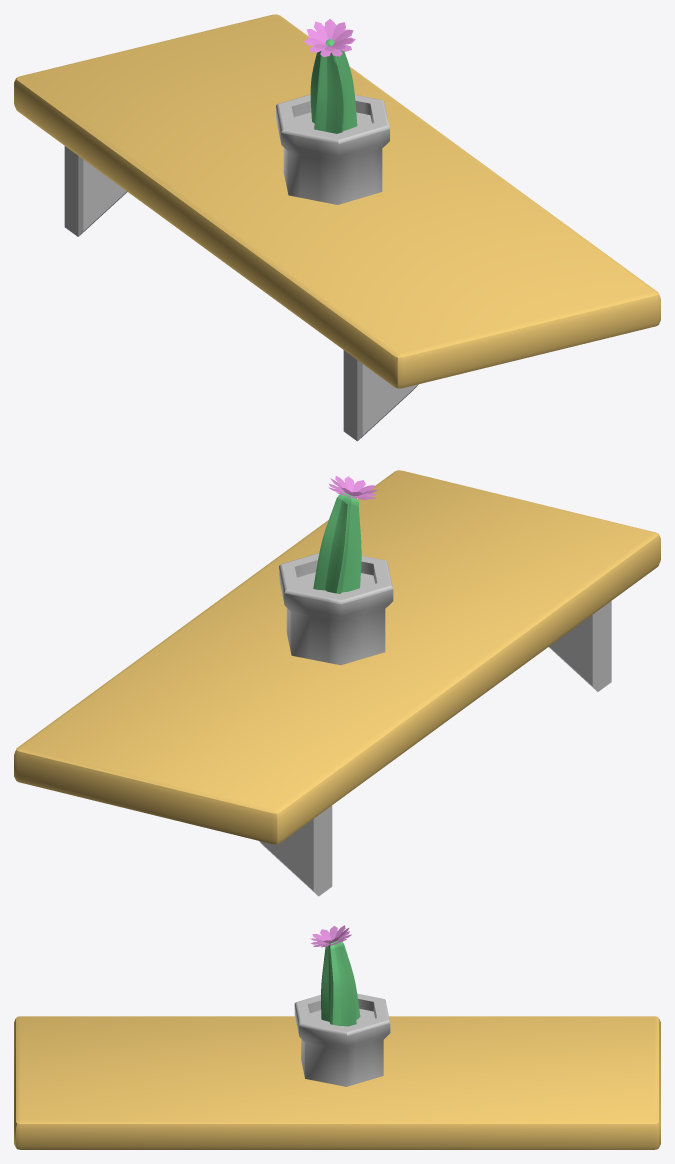
The model's file is Asset011_Prateleira.fbx.
3 views of the same model, one above another, from view 1: azimuth 30°, elevation 25°; view 2: azimuth 150°, elevation 25°; view 3: azimuth 270°, elevation 25° (orthographic). The views are drawn at different scales.
Visible parts, largest first — view 1: Prateleira, Loft, Suporte1, Loft_1, Suporte2; view 2: Prateleira, Loft, Loft_1, Suporte2, Suporte1; view 3: Prateleira, Loft, Loft_1.
Part boxes in pixels (box(x1,y1,x2,y2)): Prateleira: box(14, 14, 660, 388); Loft: box(276, 94, 389, 204); Suporte1: box(343, 350, 418, 441); Loft_1: box(310, 39, 357, 133); Suporte2: box(64, 146, 127, 236); Prateleira: box(14, 470, 660, 844); Loft: box(279, 553, 393, 665); Loft_1: box(313, 493, 361, 593); Suporte2: box(259, 805, 332, 896); Suporte1: box(549, 601, 611, 691); Prateleira: box(14, 1016, 660, 1149); Loft: box(294, 993, 390, 1086); Loft_1: box(321, 940, 360, 1026).
Bounding box in the file's own units: 53.95 × 54.12 × 135.
